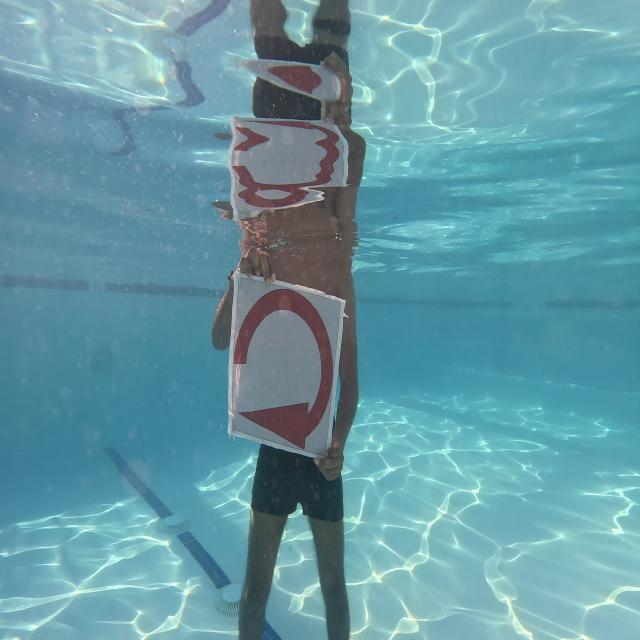red_side: (217, 243, 349, 477)
